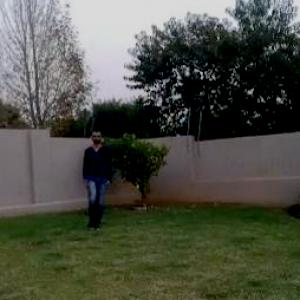follow: (84, 130, 113, 229)
